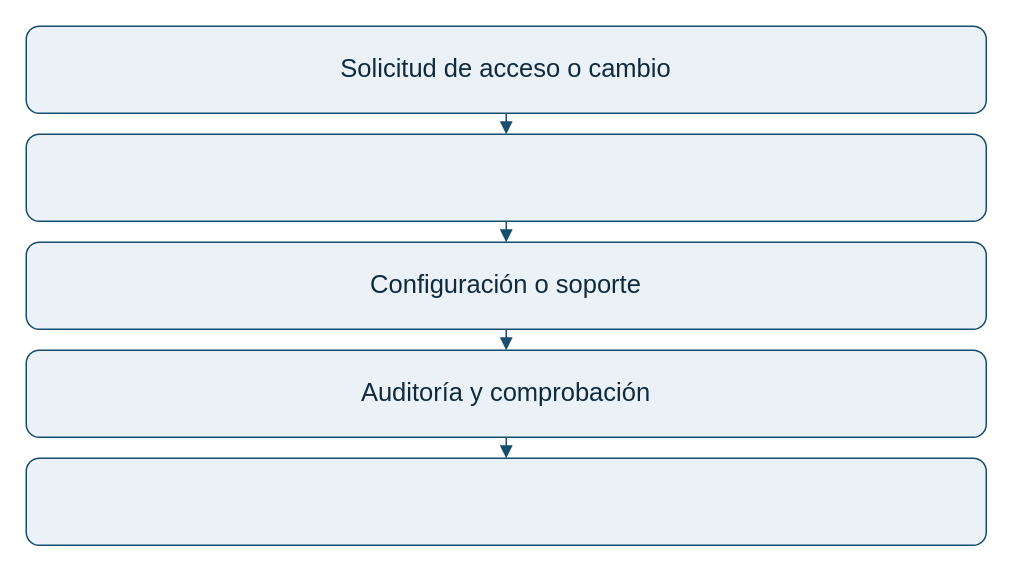
Image size: 1013x572. Some labels were removed from this diagram. The shapes that lost their labels are listed below. From the top down, each one's centre as x and y in pixels, then its label:
At [505,177]: "Validación de alcance y autorización".
At [505,501]: "Cierre administrativo sin suplantar decisiones".
